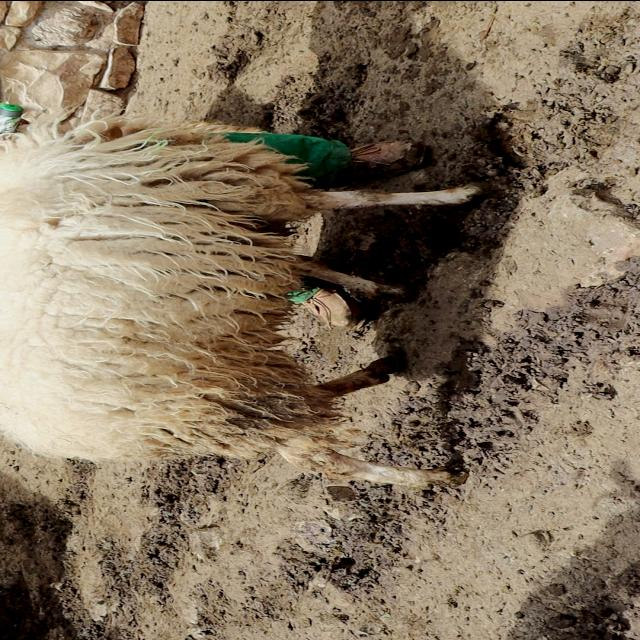Score_4: (0, 115, 479, 487)
